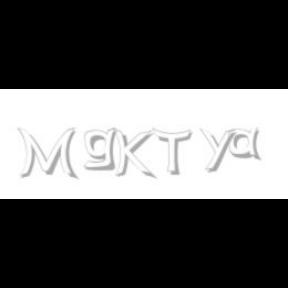K: (113, 128, 153, 180)
M: (18, 128, 76, 180)
T: (152, 128, 192, 176)
a: (228, 128, 266, 160)
g: (84, 128, 120, 171)
y: (199, 128, 239, 172)
